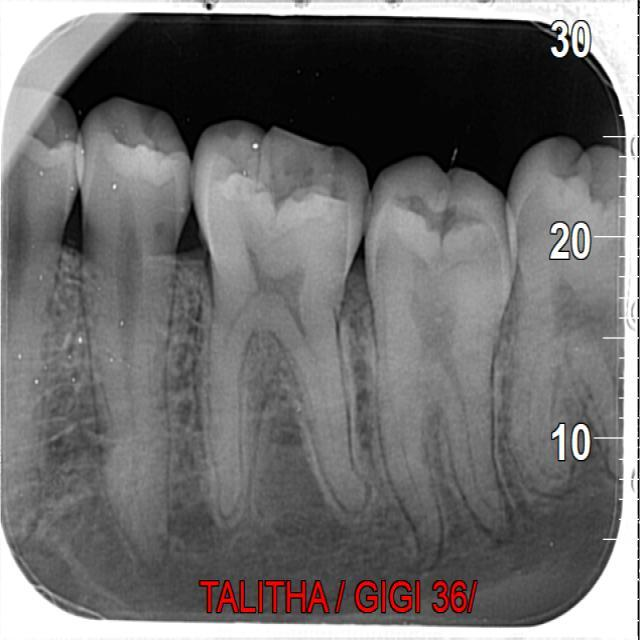individual-tooth-8tto: (192, 127, 369, 520), (366, 161, 516, 564), (74, 93, 192, 558)
